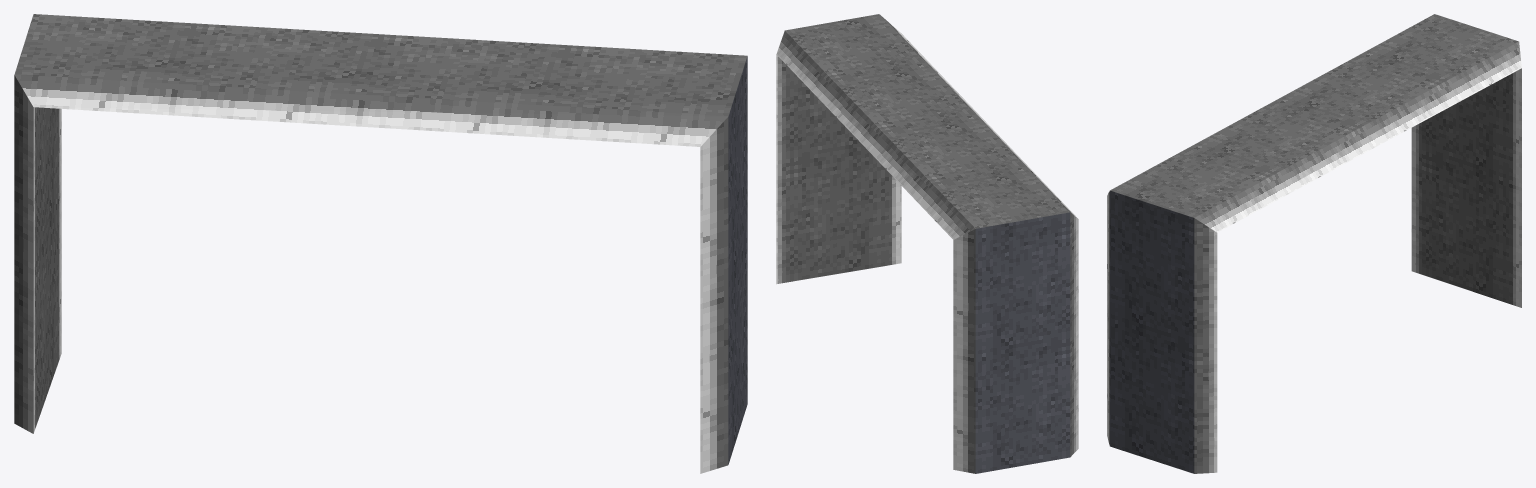
File: test_tubes_primary.glb
3 renders of one model, left to right at view 1: azimuth 30°, elevation 25°; view 2: azimuth 150°, elevation 25°; view 3: azimuth 270°, elevation 25°, orthographic. The views are drawn at different scales.
Visible parts, largest first — view 1: Object; view 2: Object; view 3: Object.
Boxes of the visible parts, x1,y1,x2,y2 form: Object: (14,14,747,473); Object: (776,14,1078,473); Object: (1107,14,1521,473).
Size of the model in its own units: 0.6186 by 0.3619 by 0.5316.
Materials: 3 (3 with a texture image).
